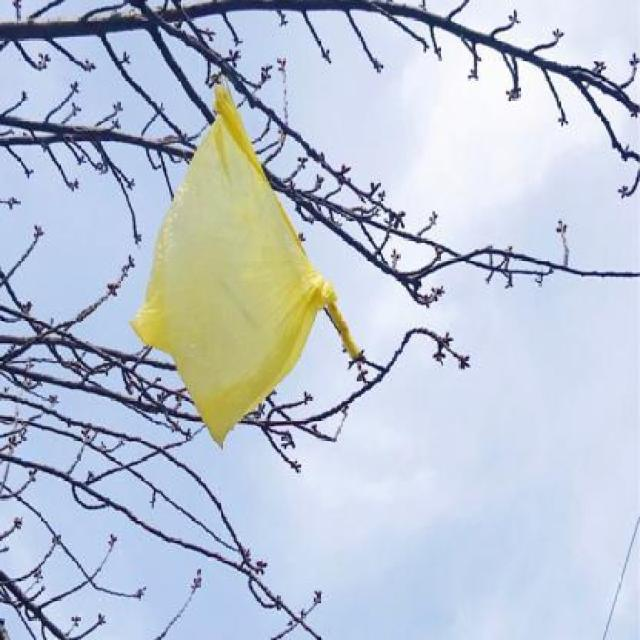plastic bag: (126, 83, 361, 443)
